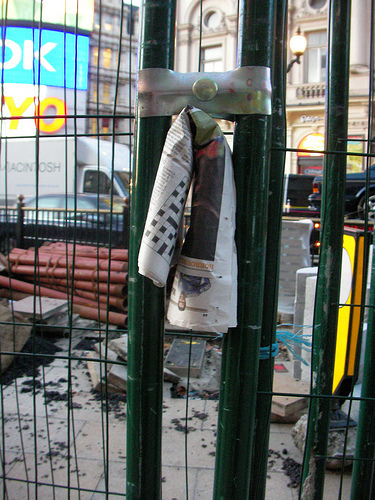litter: (137, 104, 238, 333)
